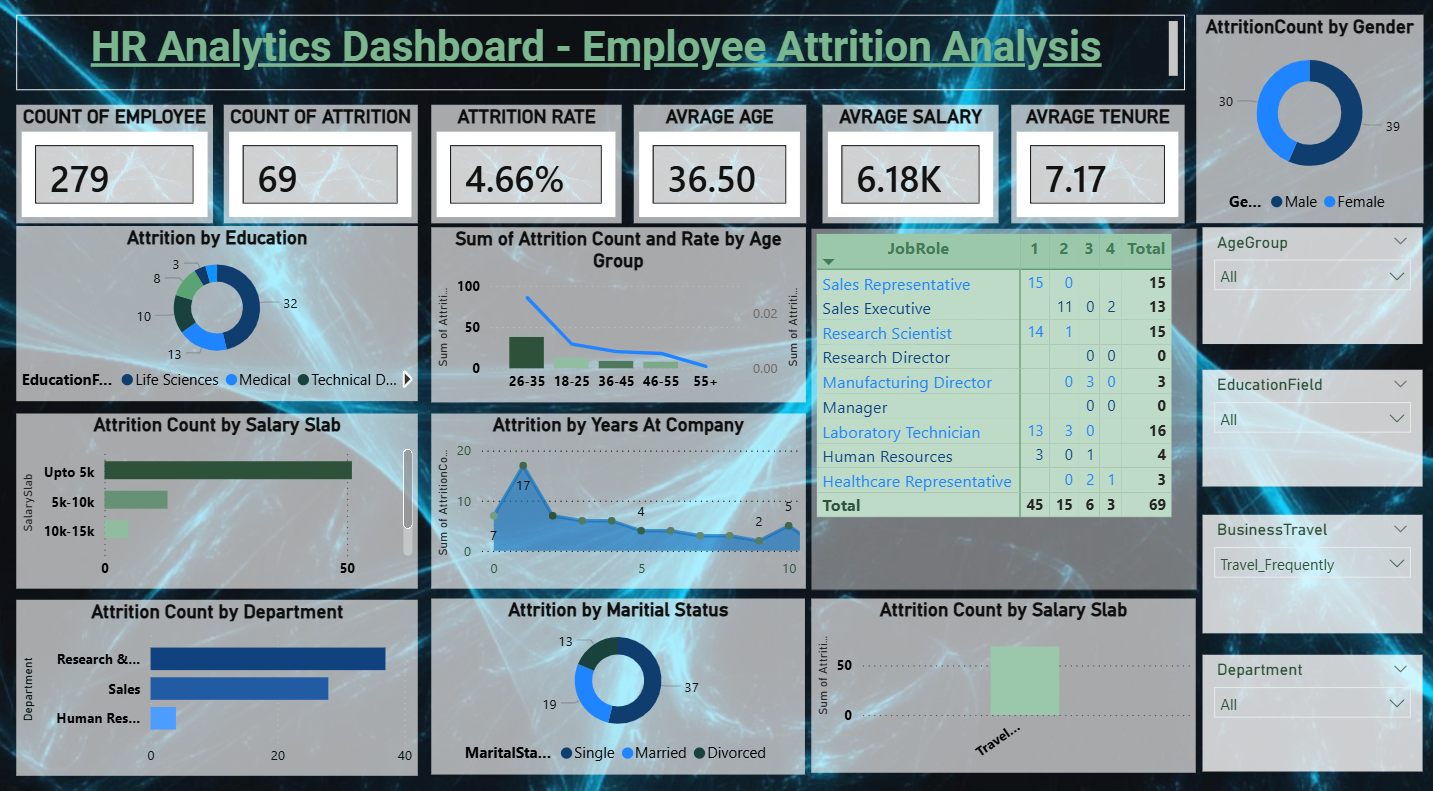

The page's visual inventory and layout, read from the dashboard file:
{"tool":"powerbi","page":{"name":"Page 1","canvas":[1280,720],"ordinal":0},"visuals":[{"type":"cardVisual","title":"COUNT OF EMPLOYEE","fields":{"Data":["CountNonNull(HR_Analytics.EmployeeCount)"]},"box":[14.2,96.6,175.1,105.6],"z":0},{"type":"textbox","box":[14.2,16.7,1040.5,67],"z":1000},{"type":"cardVisual","title":"COUNT OF ATTRITION","fields":{"Data":["Sum(HR_Analytics.AttritionCount)1"]},"box":[199.6,96.6,172.6,105.6],"z":2000},{"type":"cardVisual","title":"ATTRITION RATE","fields":{"Data":["Sum(HR_Analytics.AttritionRate)"]},"box":[383.7,96.6,170,105.6],"z":3000},{"type":"cardVisual","title":"AVRAGE AGE","fields":{"Data":["Avg(HR_Analytics.Age)"]},"box":[564,96.6,153.2,105.6],"z":4000},{"type":"cardVisual","title":"AVRAGE SALARY","fields":{"Data":["Avg(HR_Analytics.MonthlyIncome)"]},"box":[732.7,96.6,157.1,105.6],"z":5000},{"type":"cardVisual","title":"AVRAGE TENURE","fields":{"Data":["Avg(HR_Analytics.YearsAtCompany)"]},"box":[900.1,96.6,154.5,105.6],"z":6000},{"type":"donutChart","title":"AttritionCount by Gender","fields":{"Category":["HR_Analytics.Gender"],"Y":["Sum(HR_Analytics.AttritionCount)"]},"box":[1064.9,16.7,202.2,185.4],"z":7000},{"type":"donutChart","title":"Attrition by Education","fields":{"Category":["HR_Analytics.EducationField","HR_Analytics.YearsAtCompany"],"Y":["Sum(HR_Analytics.AttritionCount)"]},"box":[14.2,204.7,358,155.8],"z":8000},{"type":"lineStackedColumnComboChart","title":"Sum of Attrition Count and Rate by Age Group","fields":{"Category":["HR_Analytics.AgeGroup"],"Y":["Sum(HR_Analytics.AttritionCount)"],"Y2":["Sum(HR_Analytics.Attrition Rate)"]},"box":[383.7,206,333.5,155.8],"z":9000},{"type":"pivotTable","fields":{"Rows":["HR_Analytics.JobRole"],"Columns":["HR_Analytics.JobLevel"],"Values":["Sum(HR_Analytics.AttritionCount)"]},"box":[722,206.6,342.9,322],"z":10000},{"type":"barChart","title":"Attrition Count by Salary Slab","fields":{"Y":["Sum(HR_Analytics.AttritionCount)"],"Category":["HR_Analytics.SalarySlab"]},"box":[14.2,372.2,358,155.8],"z":11000},{"type":"areaChart","title":"Attrition by Years At Company","fields":{"Category":["HR_Analytics.YearsAtCompany"],"Y":["Sum(HR_Analytics.AttritionCount)"]},"box":[383.7,372.2,333.5,155.8],"z":12000},{"type":"barChart","title":"Attrition Count by Department","fields":{"Y":["Sum(HR_Analytics.AttritionCount)"],"Category":["HR_Analytics.Department"]},"box":[13.9,537.7,358,156.5],"z":13000},{"type":"donutChart","title":"Attrition by Maritial Status","fields":{"Y":["Sum(HR_Analytics.AttritionCount)"],"Category":["HR_Analytics.MaritalStatus"]},"box":[384.3,536.2,333.2,156.5],"z":14000},{"type":"columnChart","title":"Attrition Count by Salary Slab","fields":{"Y":["Sum(HR_Analytics.AttritionCount)"],"Category":["HR_Analytics.BusinessTravel"]},"box":[722.1,536.2,342.5,155],"z":15000},{"type":"slicer","fields":{"Values":["HR_Analytics.Department"]},"box":[1071.4,586.8,195.6,104.4],"z":16000},{"type":"slicer","fields":{"Values":["HR_Analytics.BusinessTravel"]},"box":[1071.4,461.5,195.6,105.5],"z":17000},{"type":"slicer","fields":{"Values":["HR_Analytics.AgeGroup"]},"box":[1071.4,205.5,195.6,104.4],"z":18000},{"type":"slicer","fields":{"Values":["HR_Analytics.EducationField"]},"box":[1071.4,333,195.6,104.4],"z":19000}]}

Visuals, with their boxes in screenshot pixels (x1, y1, x2, y2), scaled from the page's 1280x720 canvas onto the 1433x791 screenshot:
"COUNT OF EMPLOYEE" cardVisual: crop(16, 106, 212, 222)
textbox: crop(16, 18, 1181, 92)
"COUNT OF ATTRITION" cardVisual: crop(223, 106, 417, 222)
"ATTRITION RATE" cardVisual: crop(430, 106, 620, 222)
"AVRAGE AGE" cardVisual: crop(631, 106, 803, 222)
"AVRAGE SALARY" cardVisual: crop(820, 106, 996, 222)
"AVRAGE TENURE" cardVisual: crop(1008, 106, 1181, 222)
"AttritionCount by Gender" donutChart: crop(1192, 18, 1419, 222)
"Attrition by Education" donutChart: crop(16, 225, 417, 396)
"Sum of Attrition Count and Rate by Age Group" lineStackedColumnComboChart: crop(430, 226, 803, 397)
pivotTable - HR_Analytics.JobRole x HR_Analytics.JobLevel: crop(808, 227, 1192, 581)
"Attrition Count by Salary Slab" barChart: crop(16, 409, 417, 580)
"Attrition by Years At Company" areaChart: crop(430, 409, 803, 580)
"Attrition Count by Department" barChart: crop(16, 591, 416, 763)
"Attrition by Maritial Status" donutChart: crop(430, 589, 803, 761)
"Attrition Count by Salary Slab" columnChart: crop(808, 589, 1192, 759)
slicer - HR_Analytics.Department: crop(1199, 645, 1418, 759)
slicer - HR_Analytics.BusinessTravel: crop(1199, 507, 1418, 623)
slicer - HR_Analytics.AgeGroup: crop(1199, 226, 1418, 340)
slicer - HR_Analytics.EducationField: crop(1199, 366, 1418, 481)
